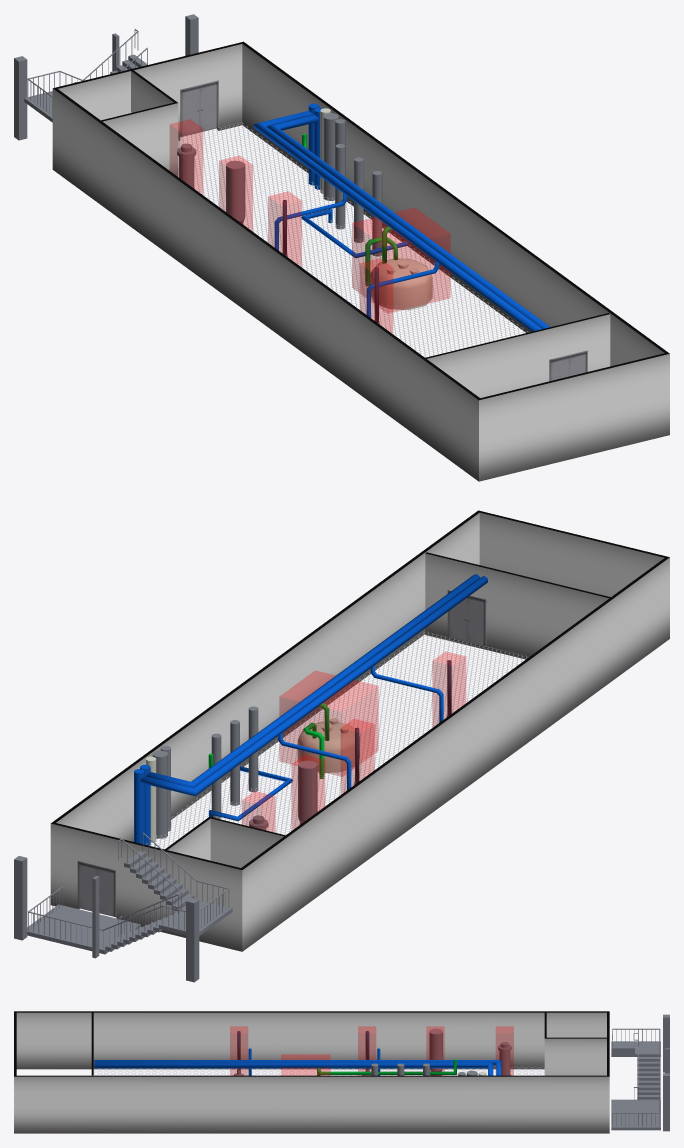
The model's file is soulbrain_T5-1-4F-1.glb.
3 views of the same model, one above another, from view 1: azimuth 30°, elevation 25°; view 2: azimuth 150°, elevation 25°; view 3: azimuth 270°, elevation 25° (orthographic). The views are drawn at different scales.
Parts seen in each view (by area): view 1: T5-1-4F-1 (1), T5-1-4F-1, Rectangle1021, equipment-T5-1-4F-1-005, equipment-T5-1-4F-1-003, equipment-T5-1-4F-1-002, equipment-T5-1-4F-1-004, equipment-T5-1-4F-1-001, Line861, Line857, Line858; view 2: T5-1-4F-1 (1), T5-1-4F-1, Rectangle1021, equipment-T5-1-4F-1-005, equipment-T5-1-4F-1-002, equipment-T5-1-4F-1-003, equipment-T5-1-4F-1-004, equipment-T5-1-4F-1-001, Line861, Line857, Line858; view 3: T5-1-4F-1 (1), T5-1-4F-1, Rectangle1021, equipment-T5-1-4F-1-001, equipment-T5-1-4F-1-004, equipment-T5-1-4F-1-002, equipment-T5-1-4F-1-005, equipment-T5-1-4F-1-003, Line857, Line860.
Part boxes in pixels (x1=…): T5-1-4F-1 (1): x1=14, y1=14, x2=669, y2=481; T5-1-4F-1: x1=177, y1=103, x2=550, y2=331; Rectangle1021: x1=178, y1=122, x2=528, y2=357; equipment-T5-1-4F-1-005: x1=352, y1=208, x2=450, y2=312; equipment-T5-1-4F-1-003: x1=268, y1=191, x2=301, y2=266; equipment-T5-1-4F-1-002: x1=219, y1=155, x2=252, y2=230; equipment-T5-1-4F-1-004: x1=360, y1=258, x2=392, y2=333; equipment-T5-1-4F-1-001: x1=170, y1=119, x2=202, y2=194; Line861: x1=274, y1=193, x2=439, y2=317; Line857: x1=302, y1=133, x2=397, y2=286; Line858: x1=301, y1=209, x2=408, y2=258; T5-1-4F-1 (1): x1=14, y1=510, x2=669, y2=982; T5-1-4F-1: x1=134, y1=574, x2=487, y2=845; Rectangle1021: x1=145, y1=631, x2=528, y2=848; equipment-T5-1-4F-1-005: x1=279, y1=670, x2=378, y2=776; equipment-T5-1-4F-1-002: x1=291, y1=755, x2=324, y2=830; equipment-T5-1-4F-1-003: x1=341, y1=719, x2=374, y2=794; equipment-T5-1-4F-1-004: x1=432, y1=651, x2=465, y2=727; equipment-T5-1-4F-1-001: x1=242, y1=791, x2=275, y2=832; Line861: x1=278, y1=665, x2=443, y2=790; Line857: x1=208, y1=703, x2=329, y2=778; Line858: x1=209, y1=766, x2=292, y2=821; T5-1-4F-1 (1): x1=14, y1=1011, x2=669, y2=1133; T5-1-4F-1: x1=94, y1=1028, x2=511, y2=1075; Rectangle1021: x1=94, y1=1066, x2=544, y2=1075; equipment-T5-1-4F-1-001: x1=496, y1=1026, x2=513, y2=1075; equipment-T5-1-4F-1-004: x1=230, y1=1026, x2=247, y2=1075; equipment-T5-1-4F-1-002: x1=426, y1=1026, x2=444, y2=1075; equipment-T5-1-4F-1-005: x1=281, y1=1054, x2=330, y2=1075; equipment-T5-1-4F-1-003: x1=358, y1=1026, x2=375, y2=1075; Line857: x1=317, y1=1059, x2=456, y2=1075; Line860: x1=237, y1=1031, x2=369, y2=1069.
Size of the model in its own units: 8.98 by 4.53 by 38.2.
13 materials, 8 textured.
